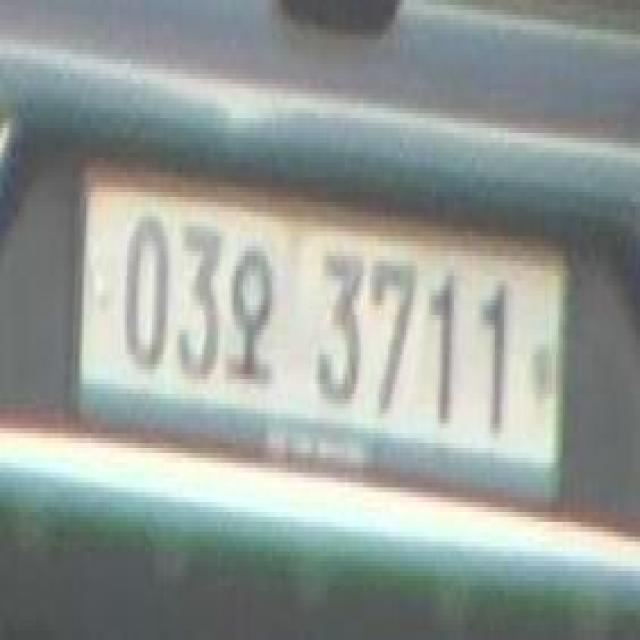illegal_plate: (82, 152, 569, 513)
